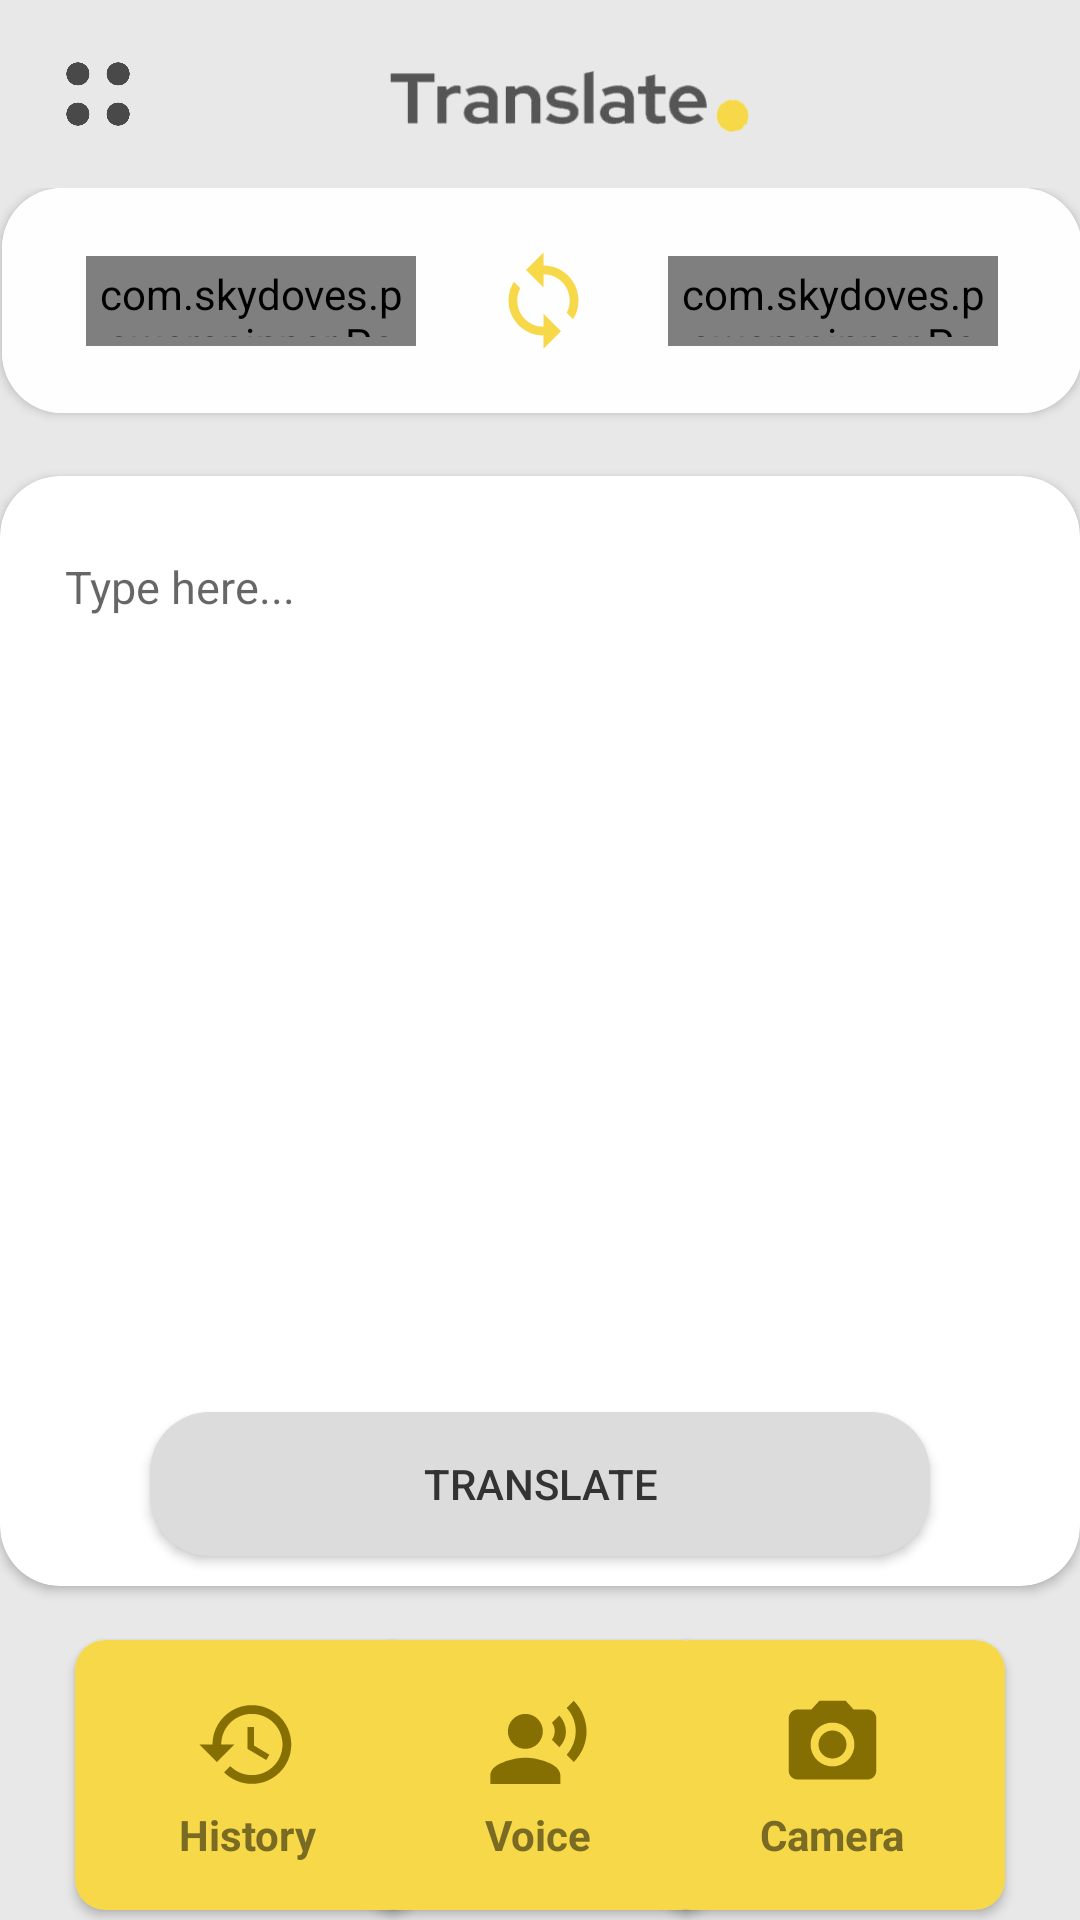

Icon click points for this 1080px×1920px phone screenshot, format [x,y]:
menu: [98,94]
switch: [543,301]
